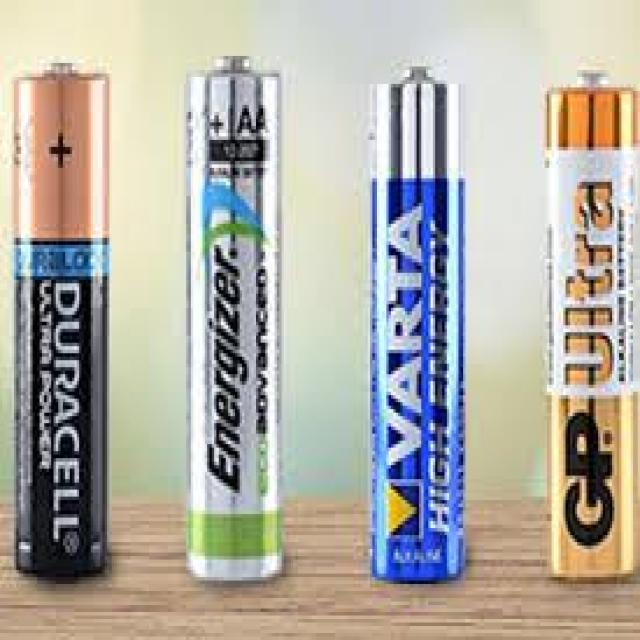AA: (184, 52, 284, 580), (10, 60, 110, 577), (366, 63, 466, 580), (542, 67, 638, 580)
